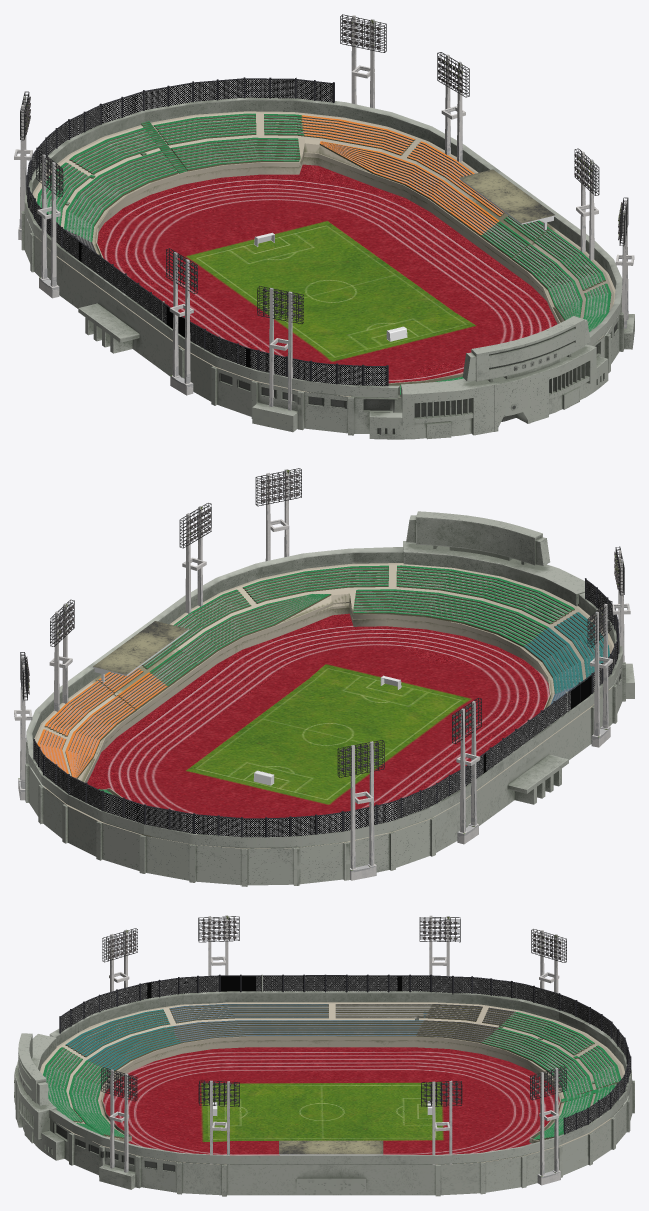
The model's file is sc_field.fbx.
The picture shows the model from 3 angles, top to bottom: view 1: azimuth 30°, elevation 25°; view 2: azimuth 150°, elevation 25°; view 3: azimuth 270°, elevation 25°; orthographic projection. The views are drawn at different scales.
Visible parts, largest first — view 1: sc_m2, sc_m1, sc_m3, wire_sc, LightThop, LightTopMaintain; view 2: sc_m2, sc_m1, sc_m3, wire_sc, LightThop, LightTopMaintain; view 3: sc_m2, sc_m1, sc_m3, wire_sc, LightThop, LightTopMaintain.
Boxes of the visible parts, bbox=[...] form: sc_m2: bbox=[32, 111, 615, 397]; sc_m1: bbox=[21, 97, 634, 439]; sc_m3: bbox=[37, 113, 611, 395]; wire_sc: bbox=[26, 77, 407, 385]; LightThop: bbox=[166, 14, 634, 410]; LightTopMaintain: bbox=[14, 91, 63, 298]; sc_m2: bbox=[33, 563, 614, 848]; sc_m1: bbox=[25, 511, 634, 886]; sc_m3: bbox=[37, 565, 609, 836]; wire_sc: bbox=[33, 578, 619, 837]; LightThop: bbox=[14, 468, 630, 800]; LightTopMaintain: bbox=[337, 698, 481, 880]; sc_m2: bbox=[40, 1002, 631, 1164]; sc_m1: bbox=[14, 974, 634, 1196]; sc_m3: bbox=[43, 1004, 621, 1140]; wire_sc: bbox=[59, 974, 631, 1134]; LightThop: bbox=[101, 915, 566, 1185]; LightTopMaintain: bbox=[419, 915, 566, 993].
Bounding box in the file's own units: 317 × 93.81 × 475.
